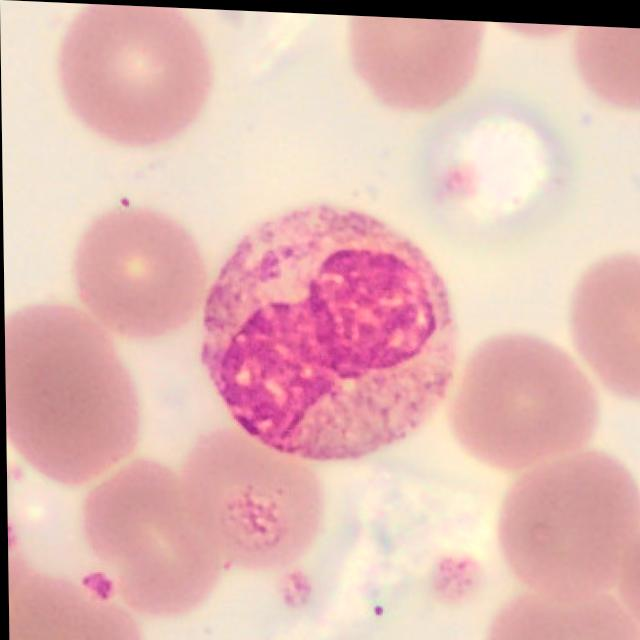Metamielocito: (198, 200, 459, 460)
